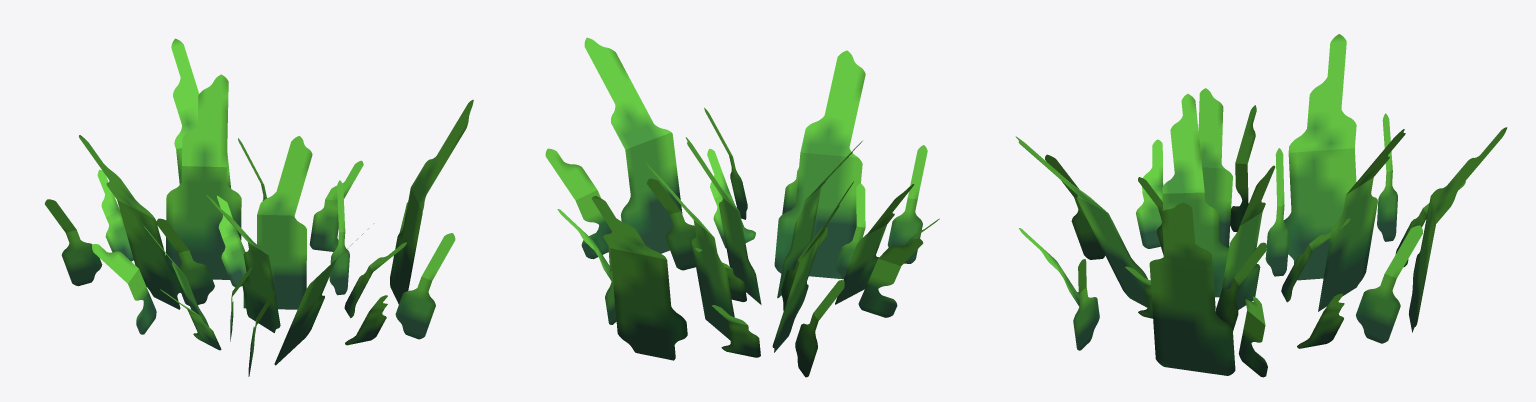
File: Foliage_Grass_1.fbx
3 views of the same model, side by side, from view 1: azimuth 30°, elevation 25°; view 2: azimuth 150°, elevation 25°; view 3: azimuth 270°, elevation 25° (orthographic). The views are drawn at different scales.
Visible parts, largest first — view 1: Plane.003; view 2: Plane.003; view 3: Plane.003.
Boxes of the visible parts, x1,y1,x2,y2 form: Plane.003: (45,38,473,376); Plane.003: (545,37,939,377); Plane.003: (1015,34,1507,377).
Bounding box in the file's own units: 29.03 × 14.09 × 30.5.
Materials: 1 (1 with a texture image).
